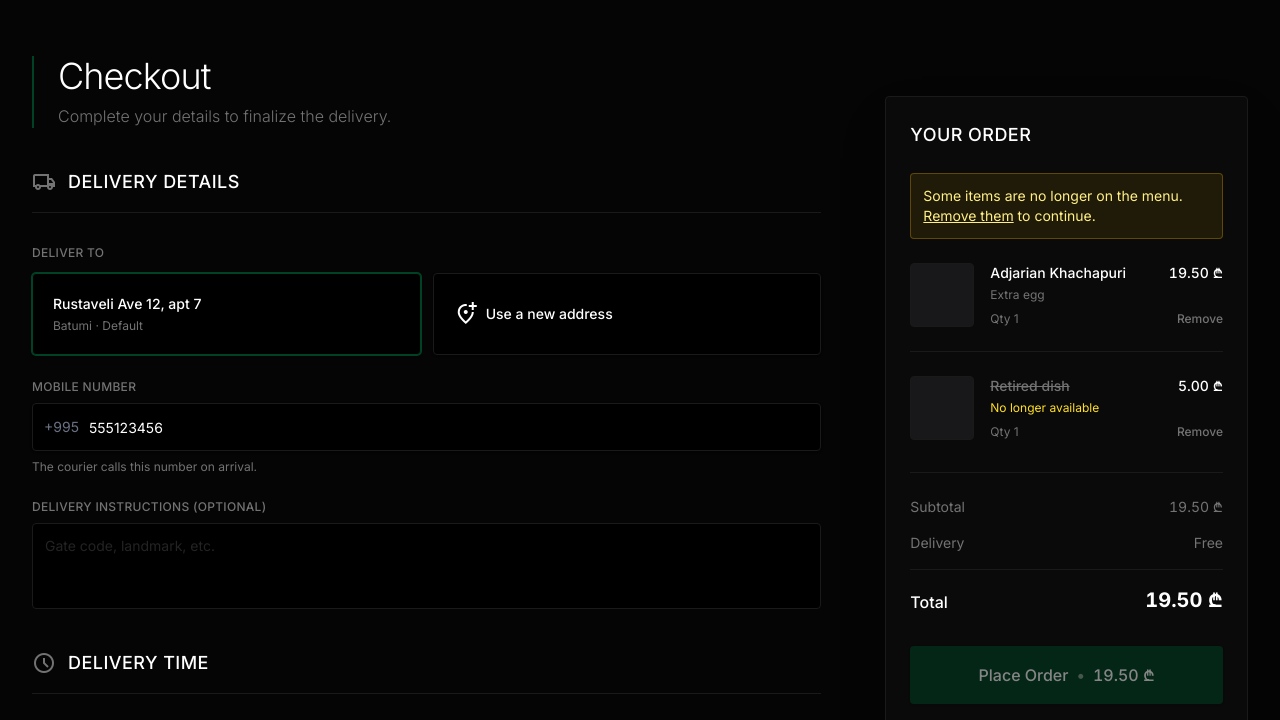
Checkout › blocks the order when a cart item is no longer on the menu
This screenshot has width=1280, height=720.
Expected: the button "Place Order • 19.50 ₾" is disabled, [910,646,1223,704]
Click the button "Remove them" at (968, 216), box [923,206,1014,226]
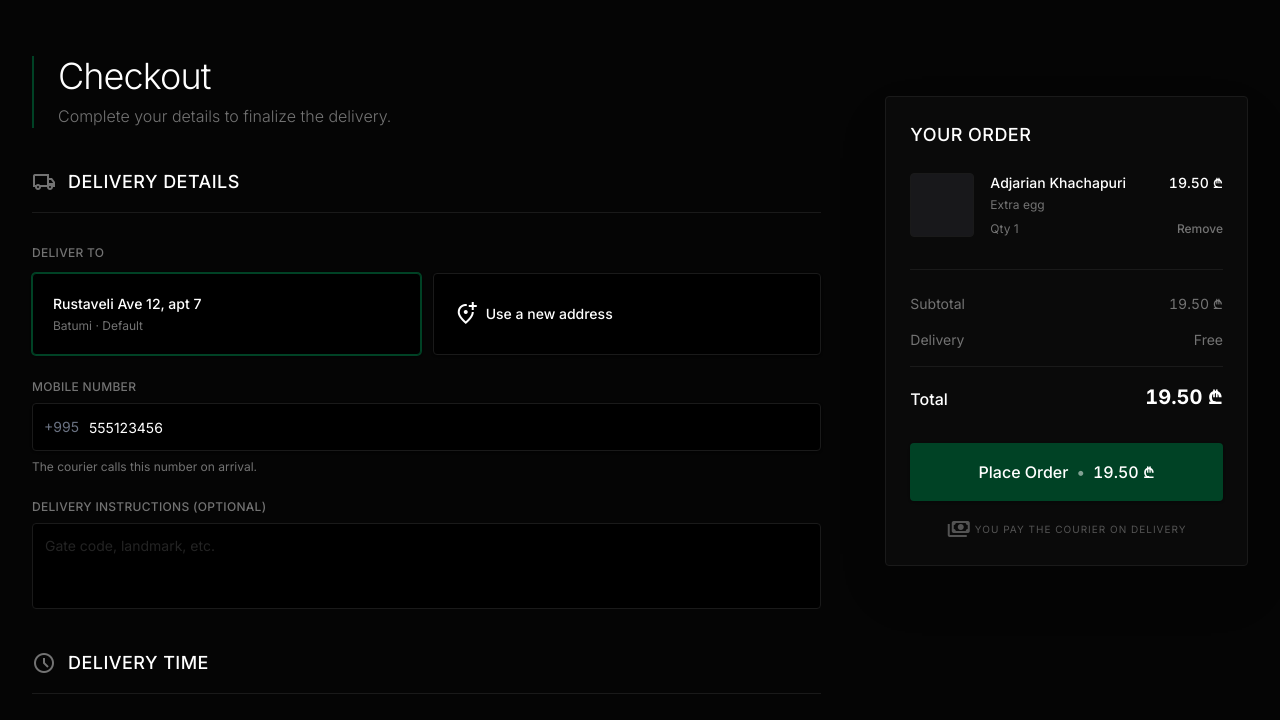
Expected: the button "Place Order • 19.50 ₾" is enabled, [910,443,1223,501]
